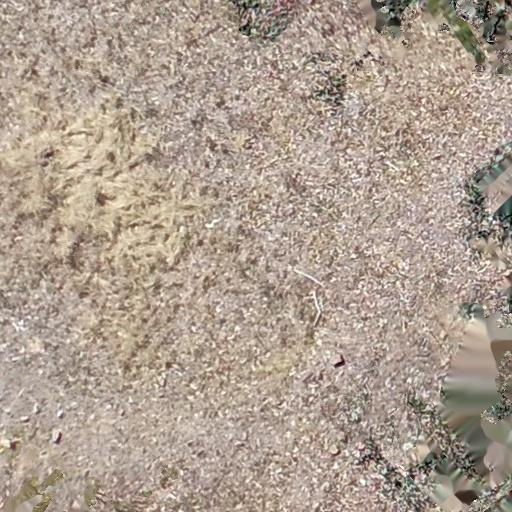stone: (47, 427, 61, 446), (330, 355, 344, 366)
